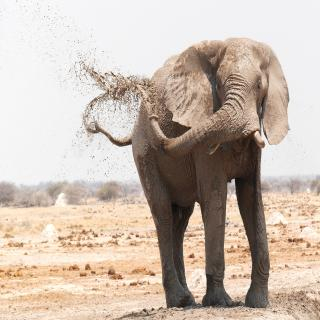Elephant: (86, 32, 291, 316)
